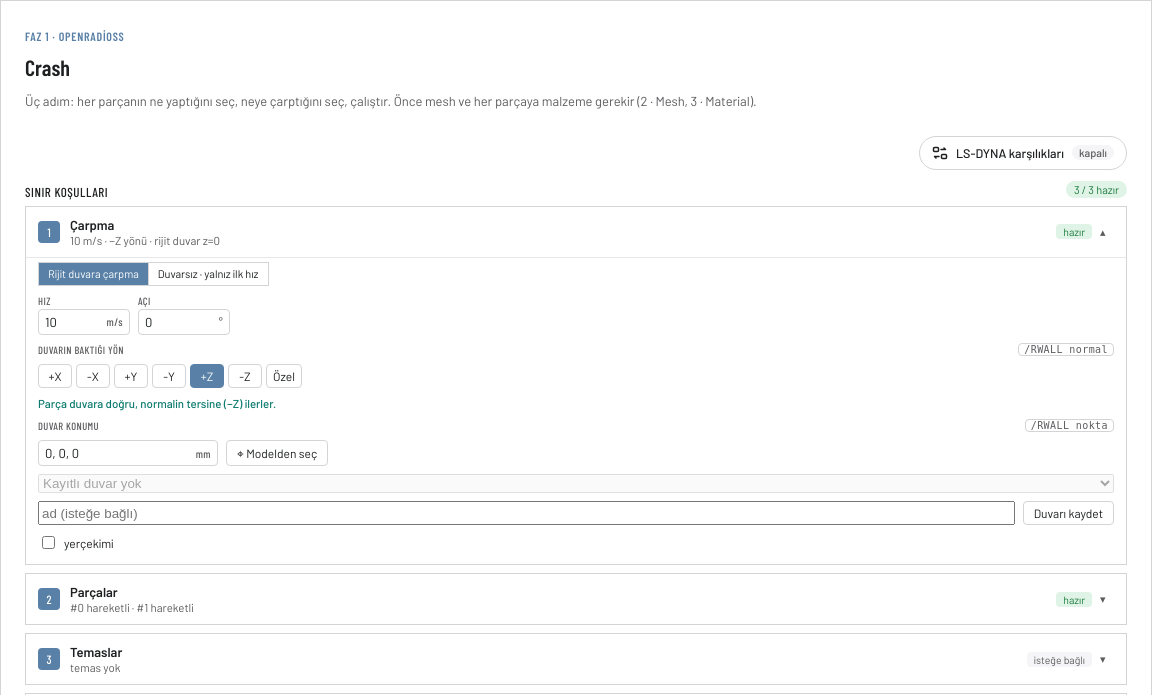
Test: CrashPanel › tasarım 2: viewport işaretleri bildirilir; Modelden seç duvar konumunu doldurur
This screenshot has width=1152, height=695.
What coordinates should you click on to do the following:
click the button "⌖ Modelden seç"
I would click on:
 (277, 453)
Its box is [226,440,328,466].
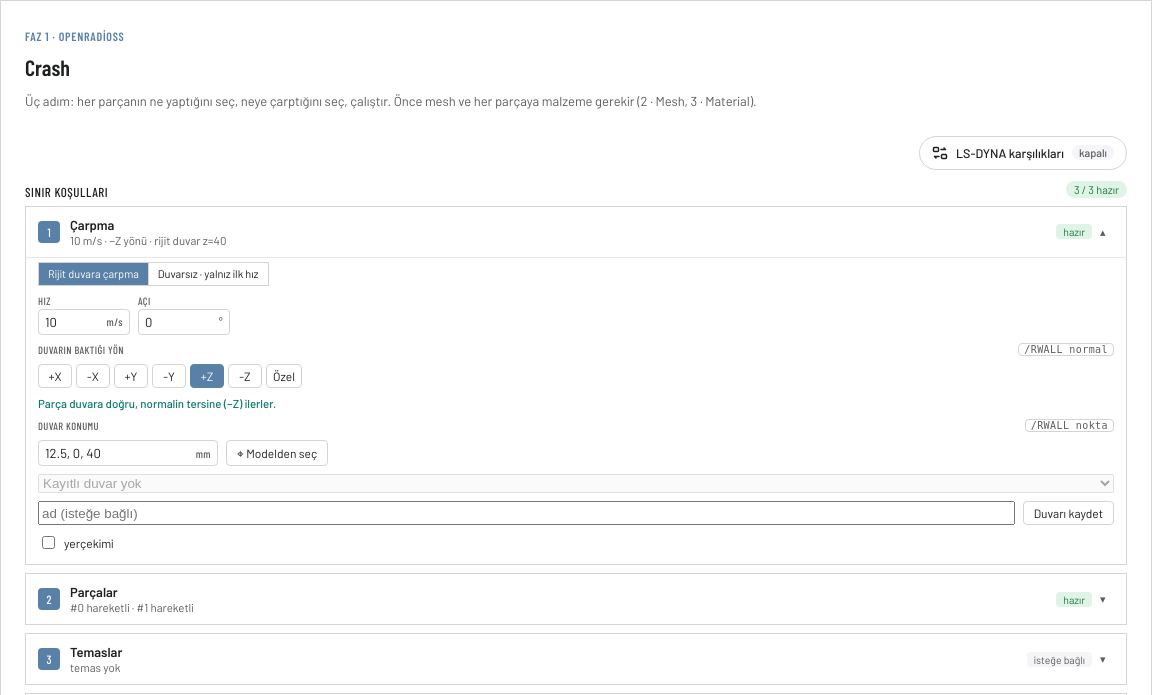
Result: the field named "Duvar konumu" holds "12.5, 0, 40" at [39,441,190,465]
